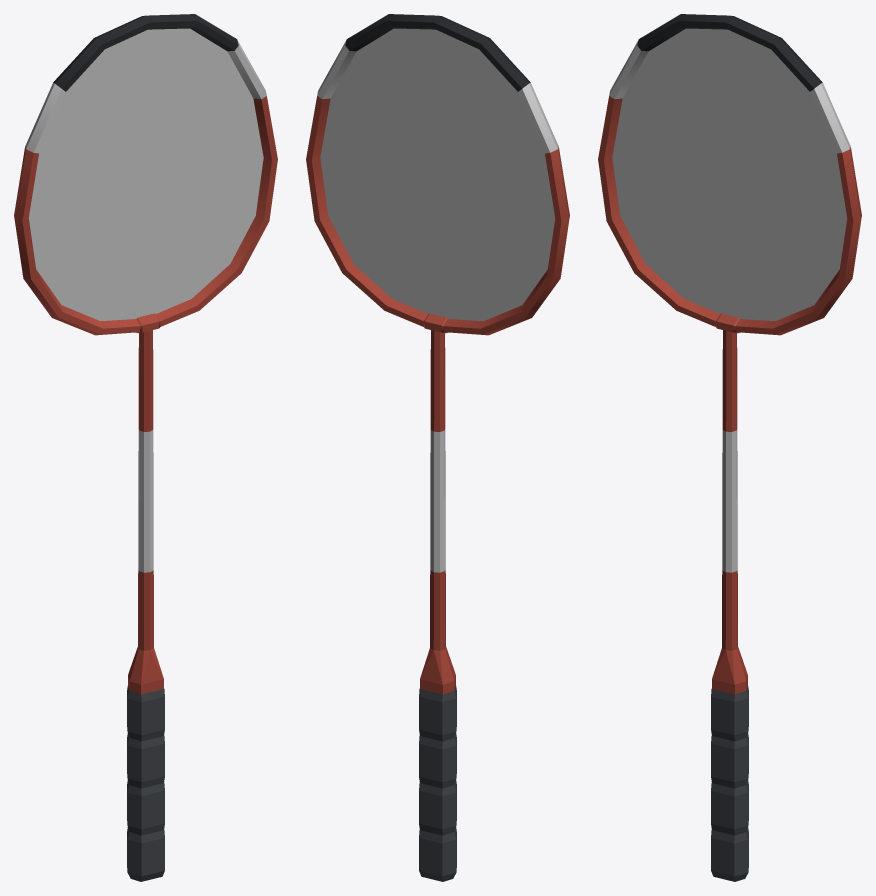
File: SM_Prop_Sport_Badminton_Racket_01.fbx
The picture shows the model from 3 angles, left to right: view 1: azimuth 30°, elevation 25°; view 2: azimuth 150°, elevation 25°; view 3: azimuth 330°, elevation 25°; orthographic projection.
Visible parts, largest first — view 1: SM_Prop_Sport_Badminton_Racket_01; view 2: SM_Prop_Sport_Badminton_Racket_01; view 3: SM_Prop_Sport_Badminton_Racket_01.
Part boxes in pixels (<box>): SM_Prop_Sport_Badminton_Racket_01: <box>14,14,277,881</box>; SM_Prop_Sport_Badminton_Racket_01: <box>306,14,569,881</box>; SM_Prop_Sport_Badminton_Racket_01: <box>598,14,861,881</box>.
Bounding box in the file's own units: 34 × 106 × 3.33.
